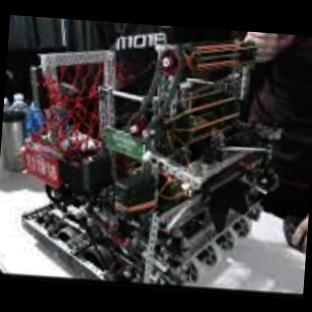Robot: (23, 30, 278, 286)
